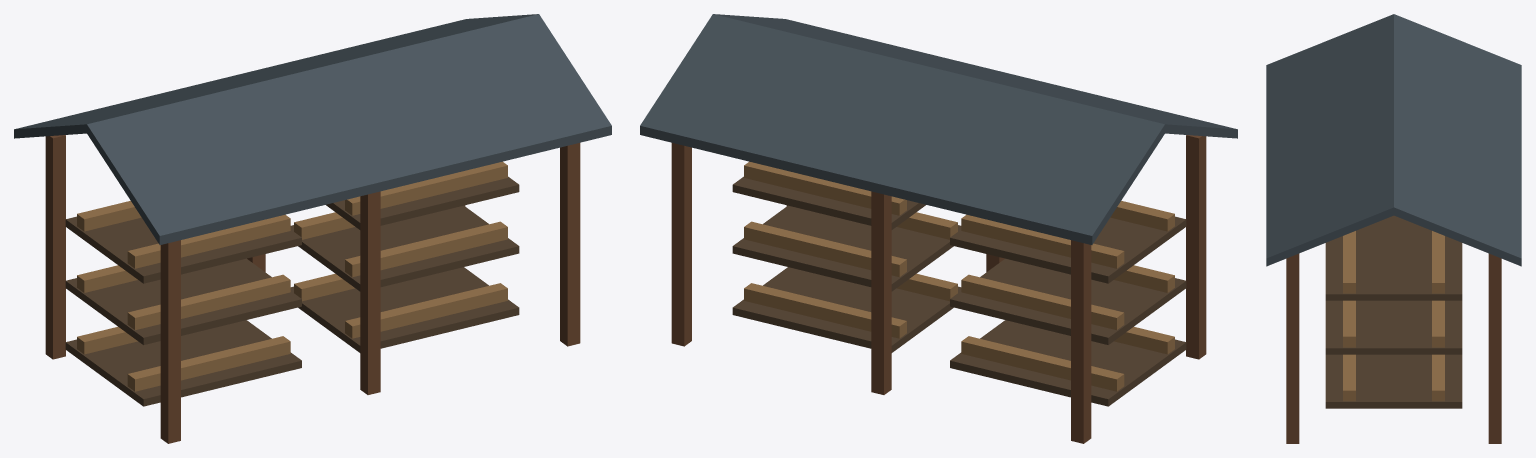
File: Building_Settlement_TimberDryingShed_001_LOD1.glb
The picture shows the model from 3 angles, left to right: view 1: azimuth 30°, elevation 25°; view 2: azimuth 150°, elevation 25°; view 3: azimuth 270°, elevation 25°; orthographic projection. The views are drawn at different scales.
Parts seen in each view (by area): view 1: Building_Settlement_TimberDryingShed_001_LOD1; view 2: Building_Settlement_TimberDryingShed_001_LOD1; view 3: Building_Settlement_TimberDryingShed_001_LOD1.
Boxes of the visible parts, box(x1,y1,x2,y2) form: Building_Settlement_TimberDryingShed_001_LOD1: box(14, 14, 611, 443); Building_Settlement_TimberDryingShed_001_LOD1: box(640, 14, 1237, 443); Building_Settlement_TimberDryingShed_001_LOD1: box(1266, 14, 1521, 443).
Bounding box in the file's own units: 7.7 × 4.55 × 4.3.
